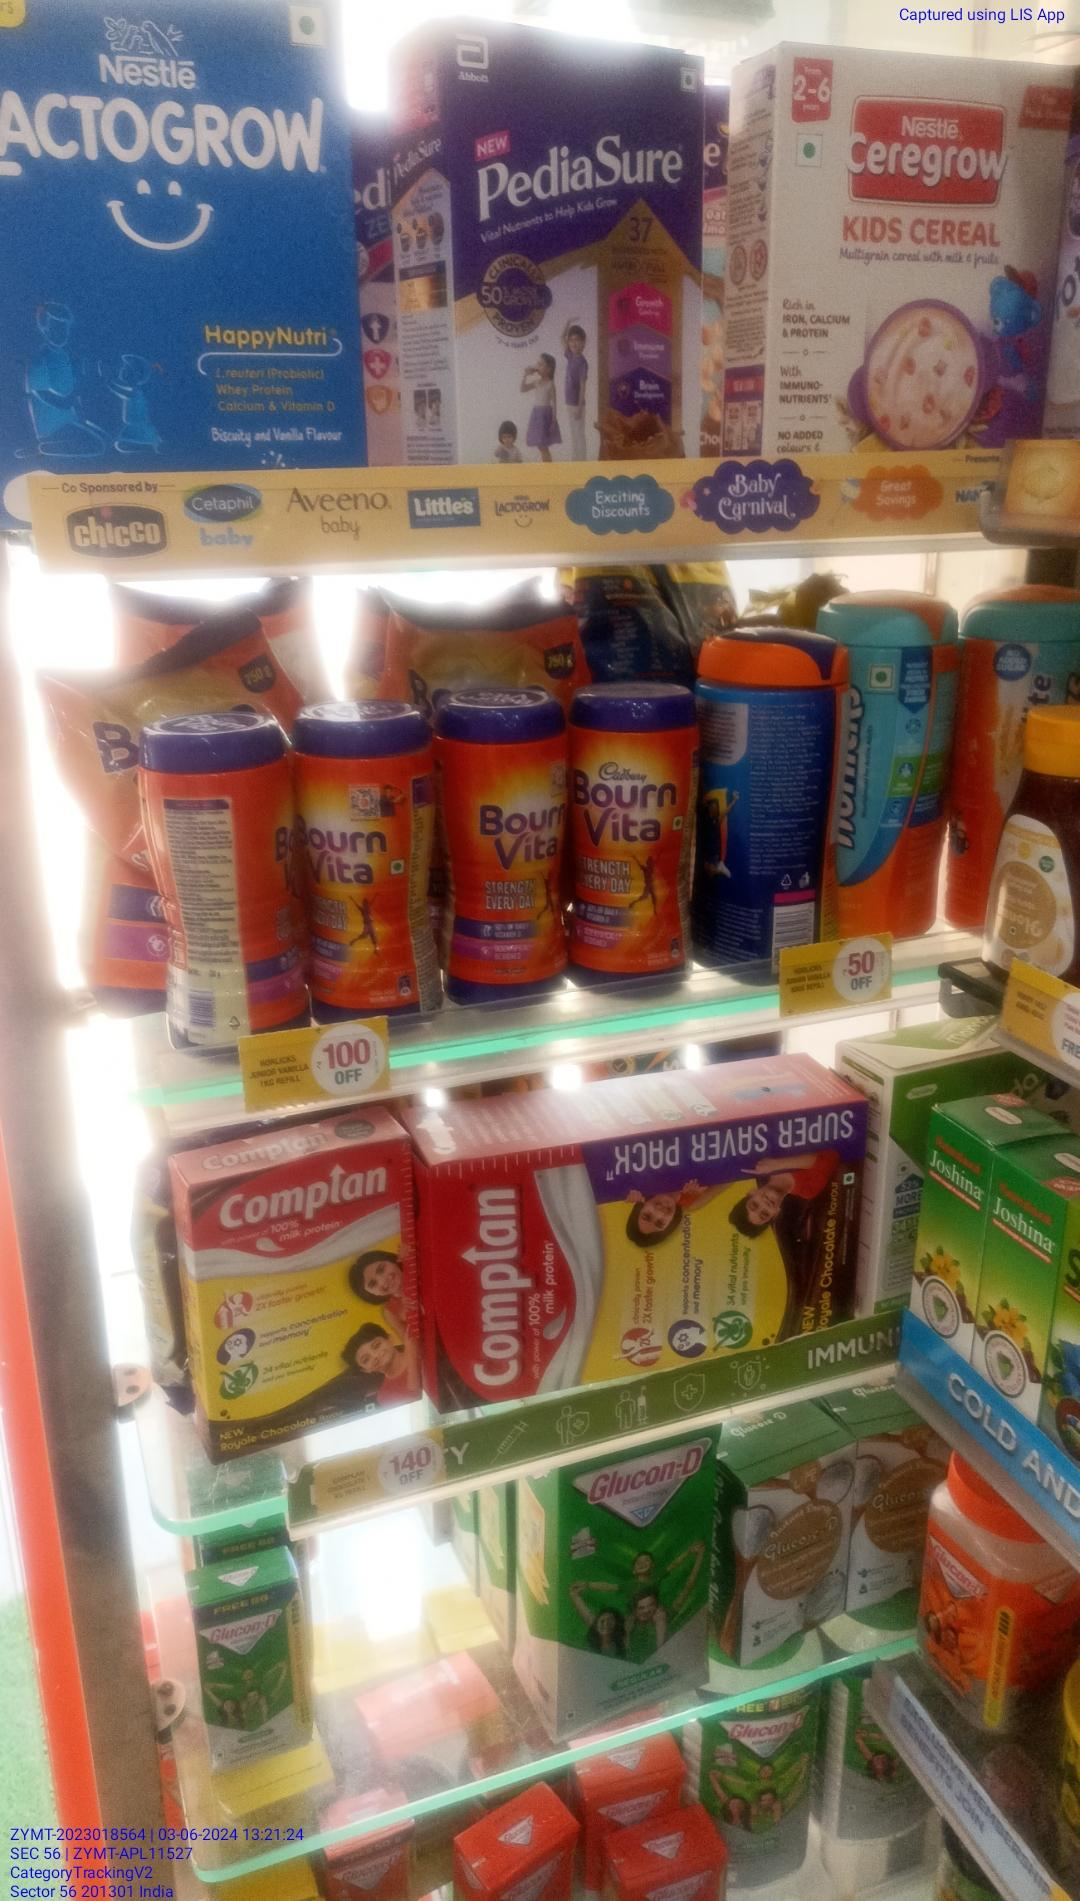BOURN_VITA_500_G_JAR: (435, 685, 569, 1001), (303, 699, 423, 1028), (576, 682, 691, 988)
COMPLAN_CHOCOLATE_200_GMS_PACK: (205, 1141, 427, 1453)
HORLICKS_LITE_REGULAR_MALT_500_GM_JAR: (834, 586, 932, 950)
PEDIASURE_CHOCOLATE_500_G_PACK: (454, 34, 690, 452)
